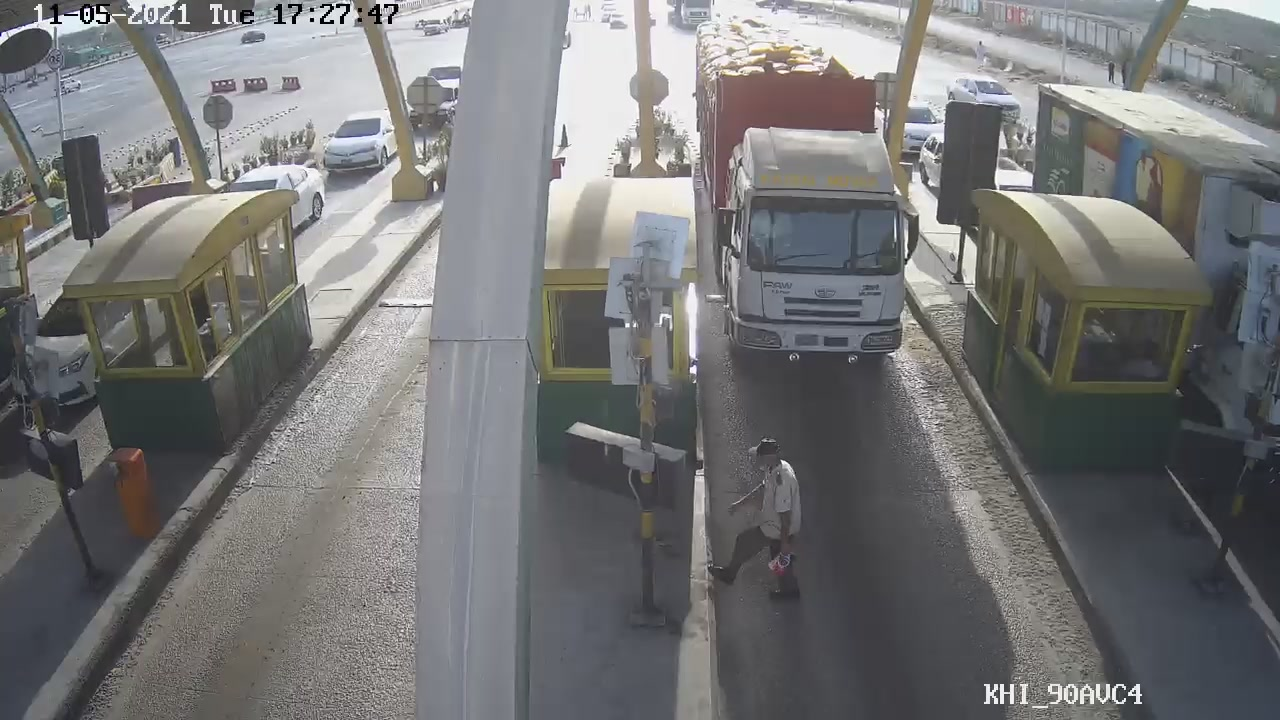F6: (694, 29, 911, 373)
